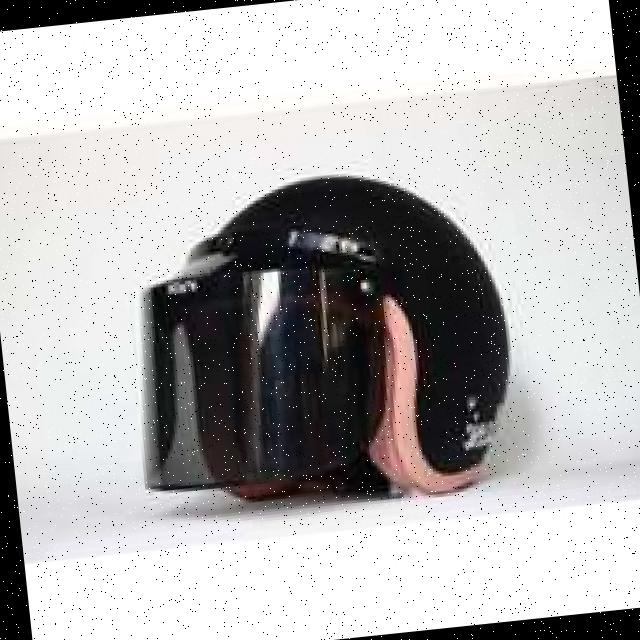Helm: (106, 146, 532, 521)
